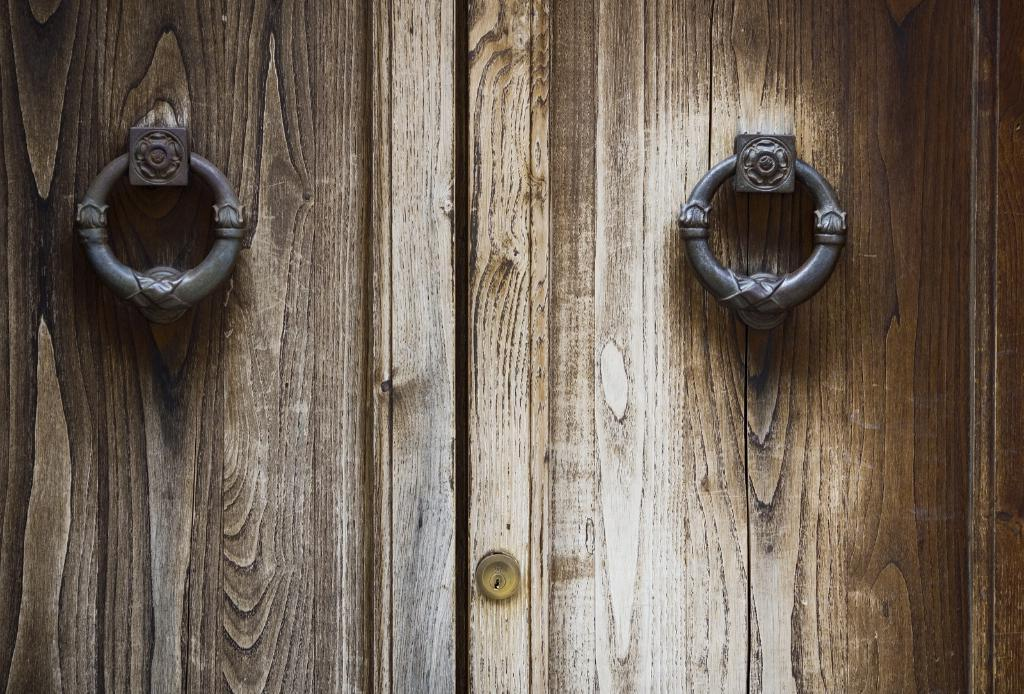handle: (54, 140, 258, 318), (674, 152, 876, 330)
